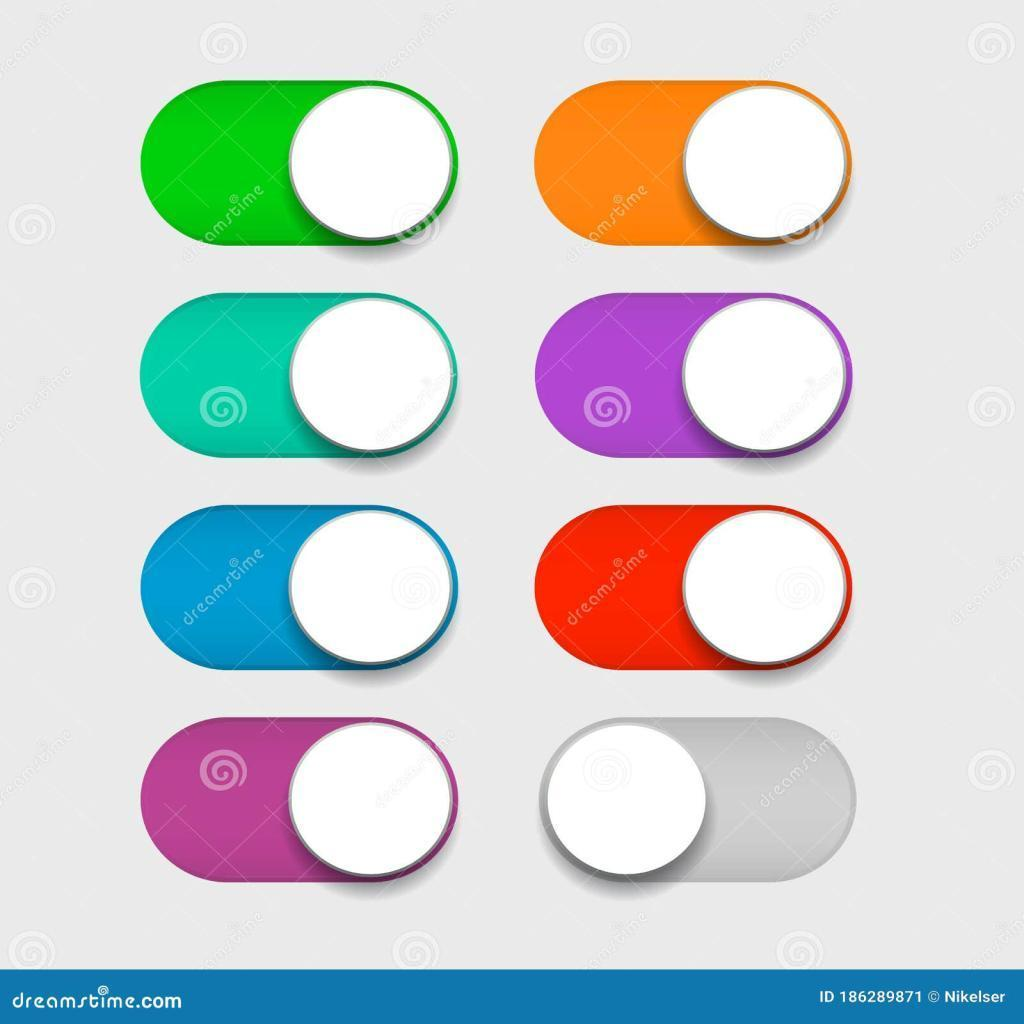switch: (142, 505, 467, 673), (139, 80, 461, 247), (141, 717, 457, 886), (138, 296, 461, 460), (542, 718, 858, 883), (537, 83, 855, 246), (536, 292, 854, 455), (536, 508, 852, 671)
